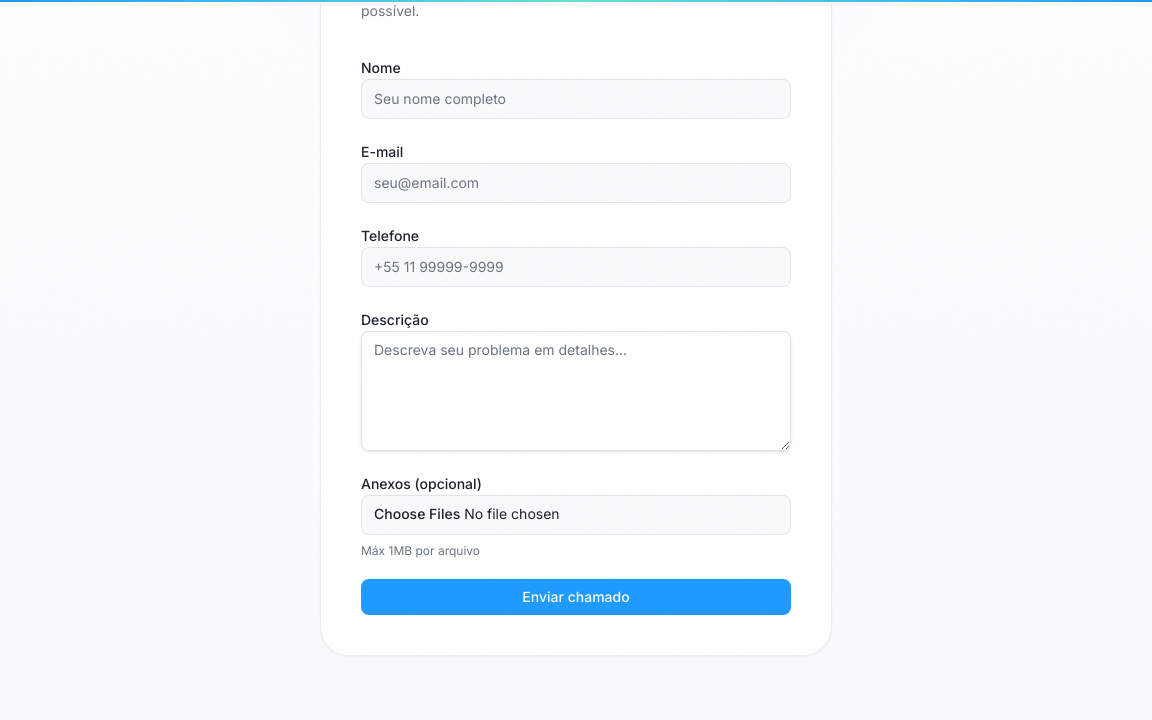
Test: PublicTicketPage › shows validation errors for empty required fields on submit
(page scrolled)
Click the button "Enviar chamado": (576, 596) [361, 578, 791, 614]
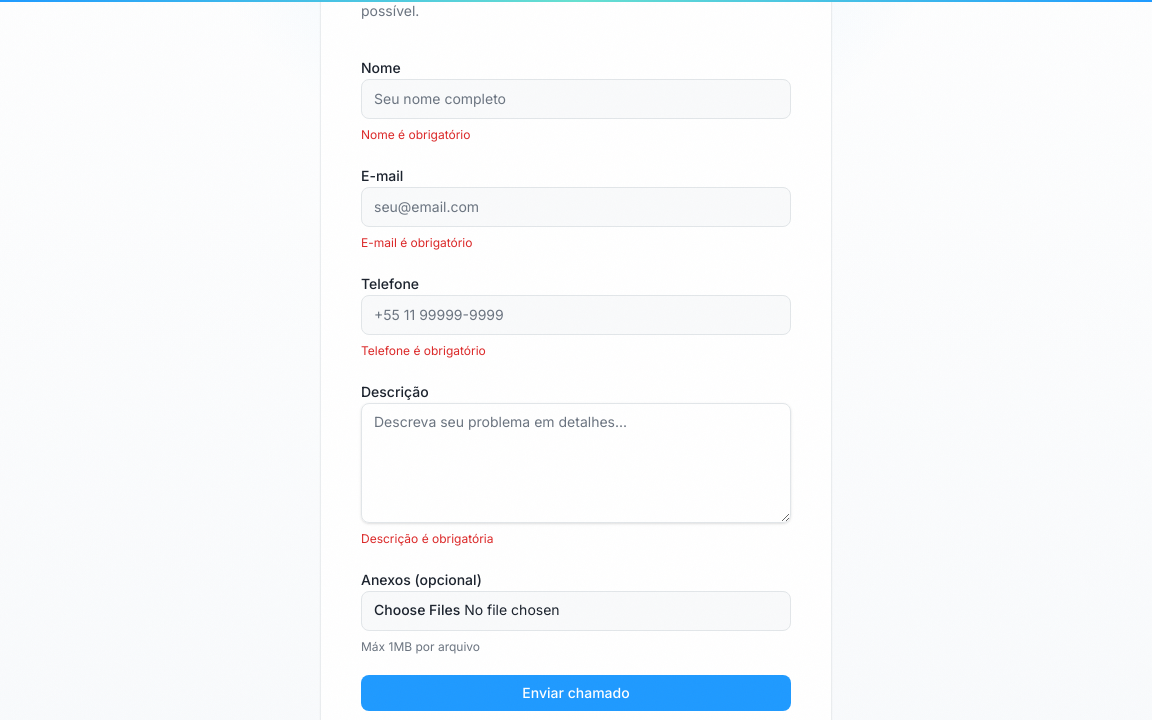
Now the text "Nome é obrigatório" is shown, box [361, 126, 470, 142]
Now the text "E-mail é obrigatório" is shown, box [361, 234, 472, 250]
Now the text "Telefone é obrigatório" is shown, box [361, 342, 486, 358]
